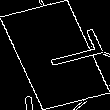L_W: (16, 32, 94, 78)
